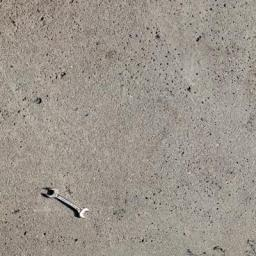FOD: (41, 182, 93, 222)
